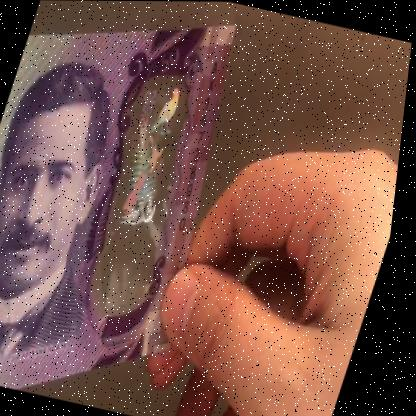50F: (82, 78, 209, 301)
